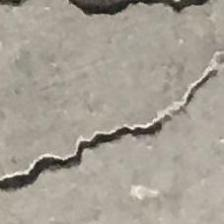Crack: (0, 50, 224, 196)
